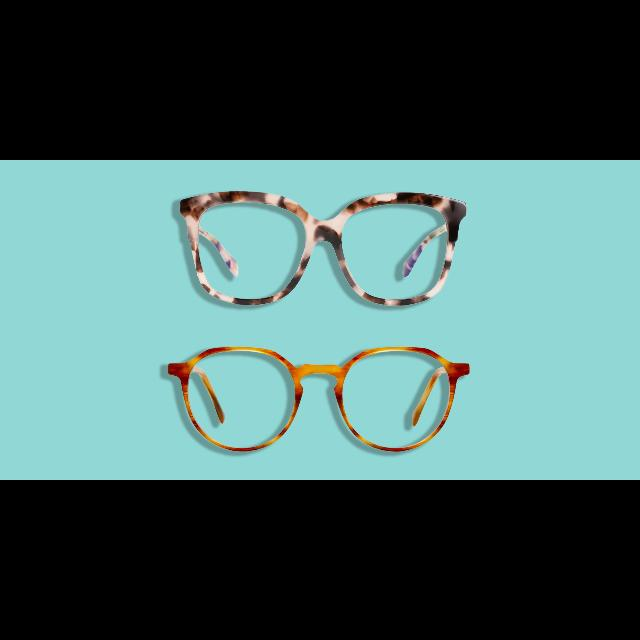glasses: (172, 185, 470, 308), (165, 342, 473, 456)
